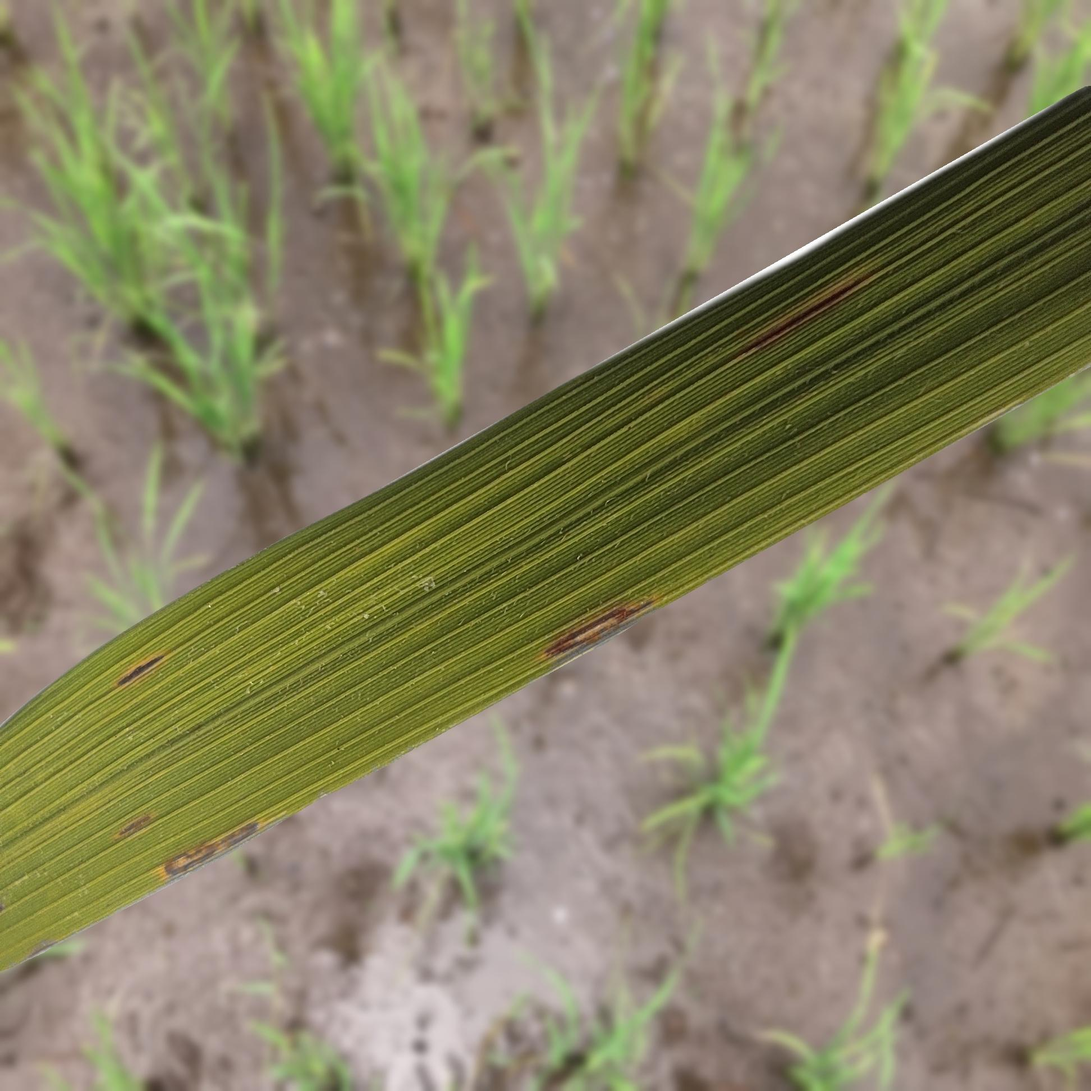LEAF BLAST: (545, 600, 652, 657), (160, 820, 262, 878)
